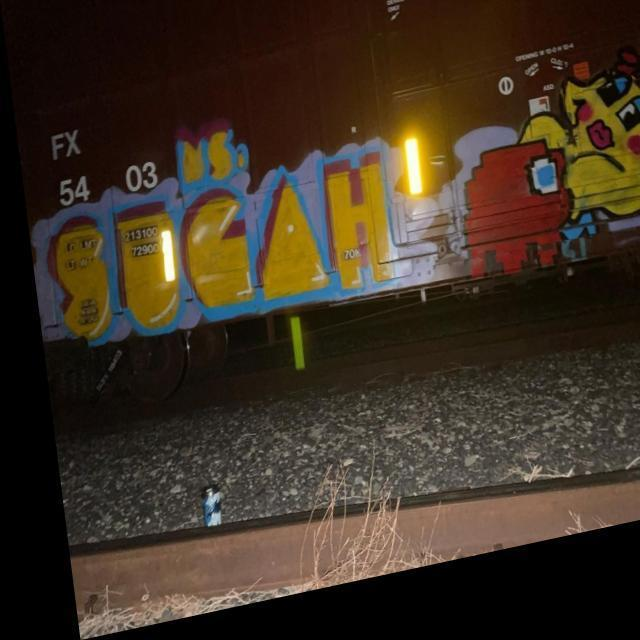-: (23, 90, 431, 364), (440, 117, 576, 310), (517, 47, 640, 256)
